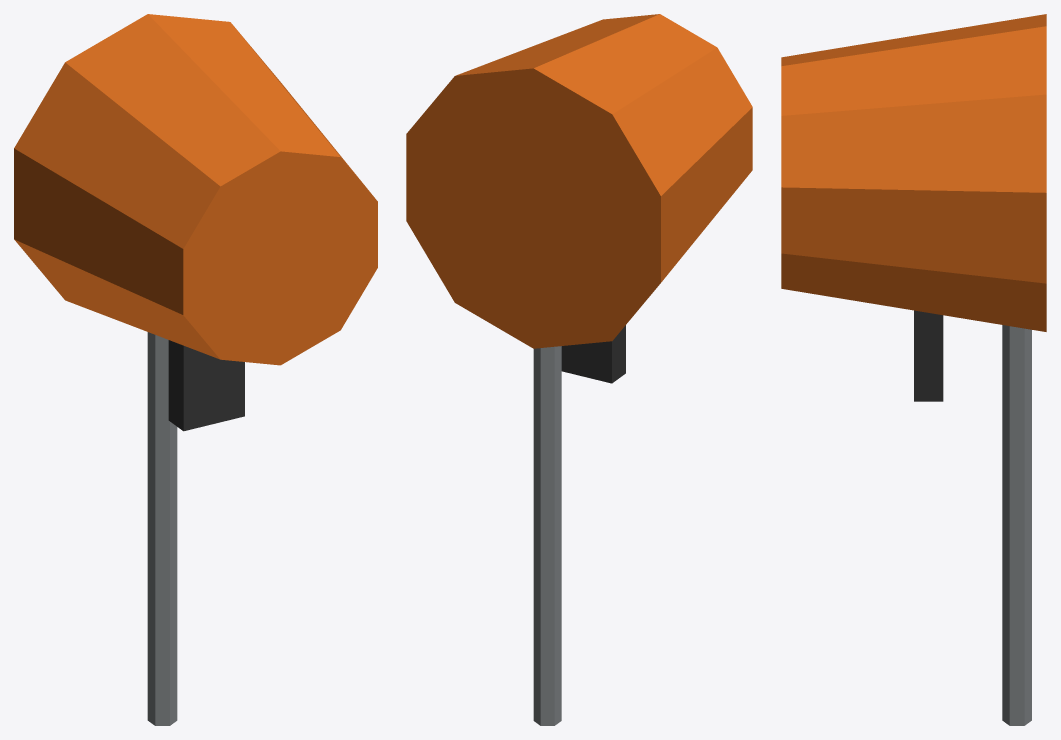
The model's file is orelhao.glb.
3 renders of one model, left to right at view 1: azimuth 30°, elevation 25°; view 2: azimuth 150°, elevation 25°; view 3: azimuth 270°, elevation 25°, orthographic. The views are drawn at different scales.
Parts seen in each view (by area): view 1: orelhao; view 2: orelhao; view 3: orelhao.
Boxes of the visible parts, <box> form: orelhao: <box>14,14,377,725</box>; orelhao: <box>406,14,752,725</box>; orelhao: <box>781,14,1046,725</box>.
Bounding box in the file's own units: 1.05 × 2.6 × 0.9.
